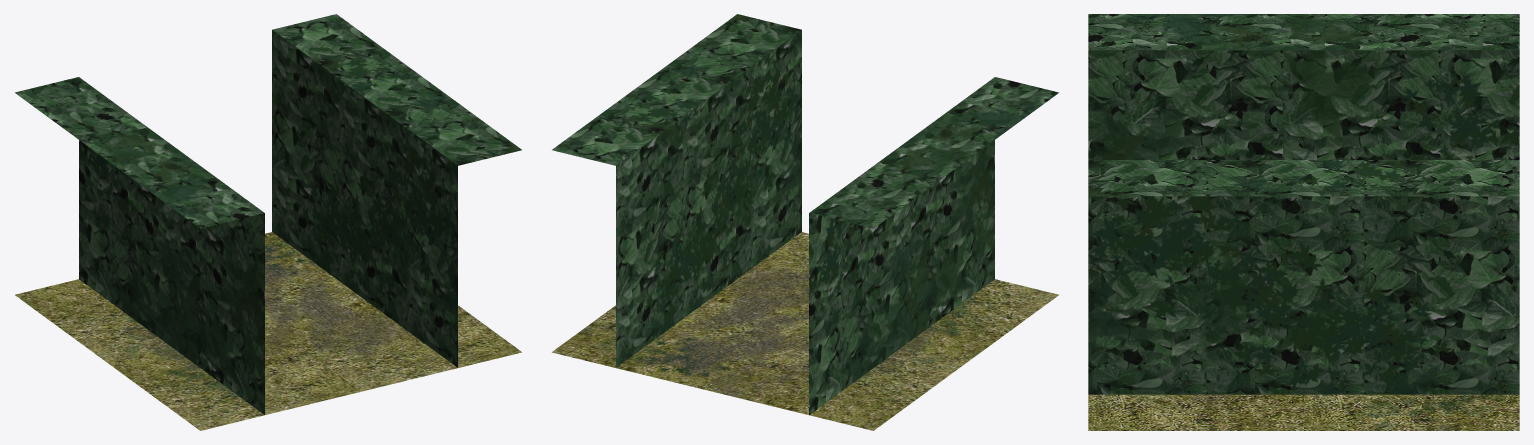
File: 4-5_Corridor_NoFace.fbx
The picture shows the model from 3 angles, left to right: view 1: azimuth 30°, elevation 25°; view 2: azimuth 150°, elevation 25°; view 3: azimuth 270°, elevation 25°; orthographic projection. The views are drawn at different scales.
Parts seen in each view (by area): view 1: front1; view 2: front1; view 3: front1.
Part boxes in pixels (<box>): front1: <box>15,14,521,430</box>; front1: <box>552,14,1058,430</box>; front1: <box>1088,14,1519,430</box>.
Size of the model in its own units: 100 by 60 by 100.
1 material, 1 textured.
